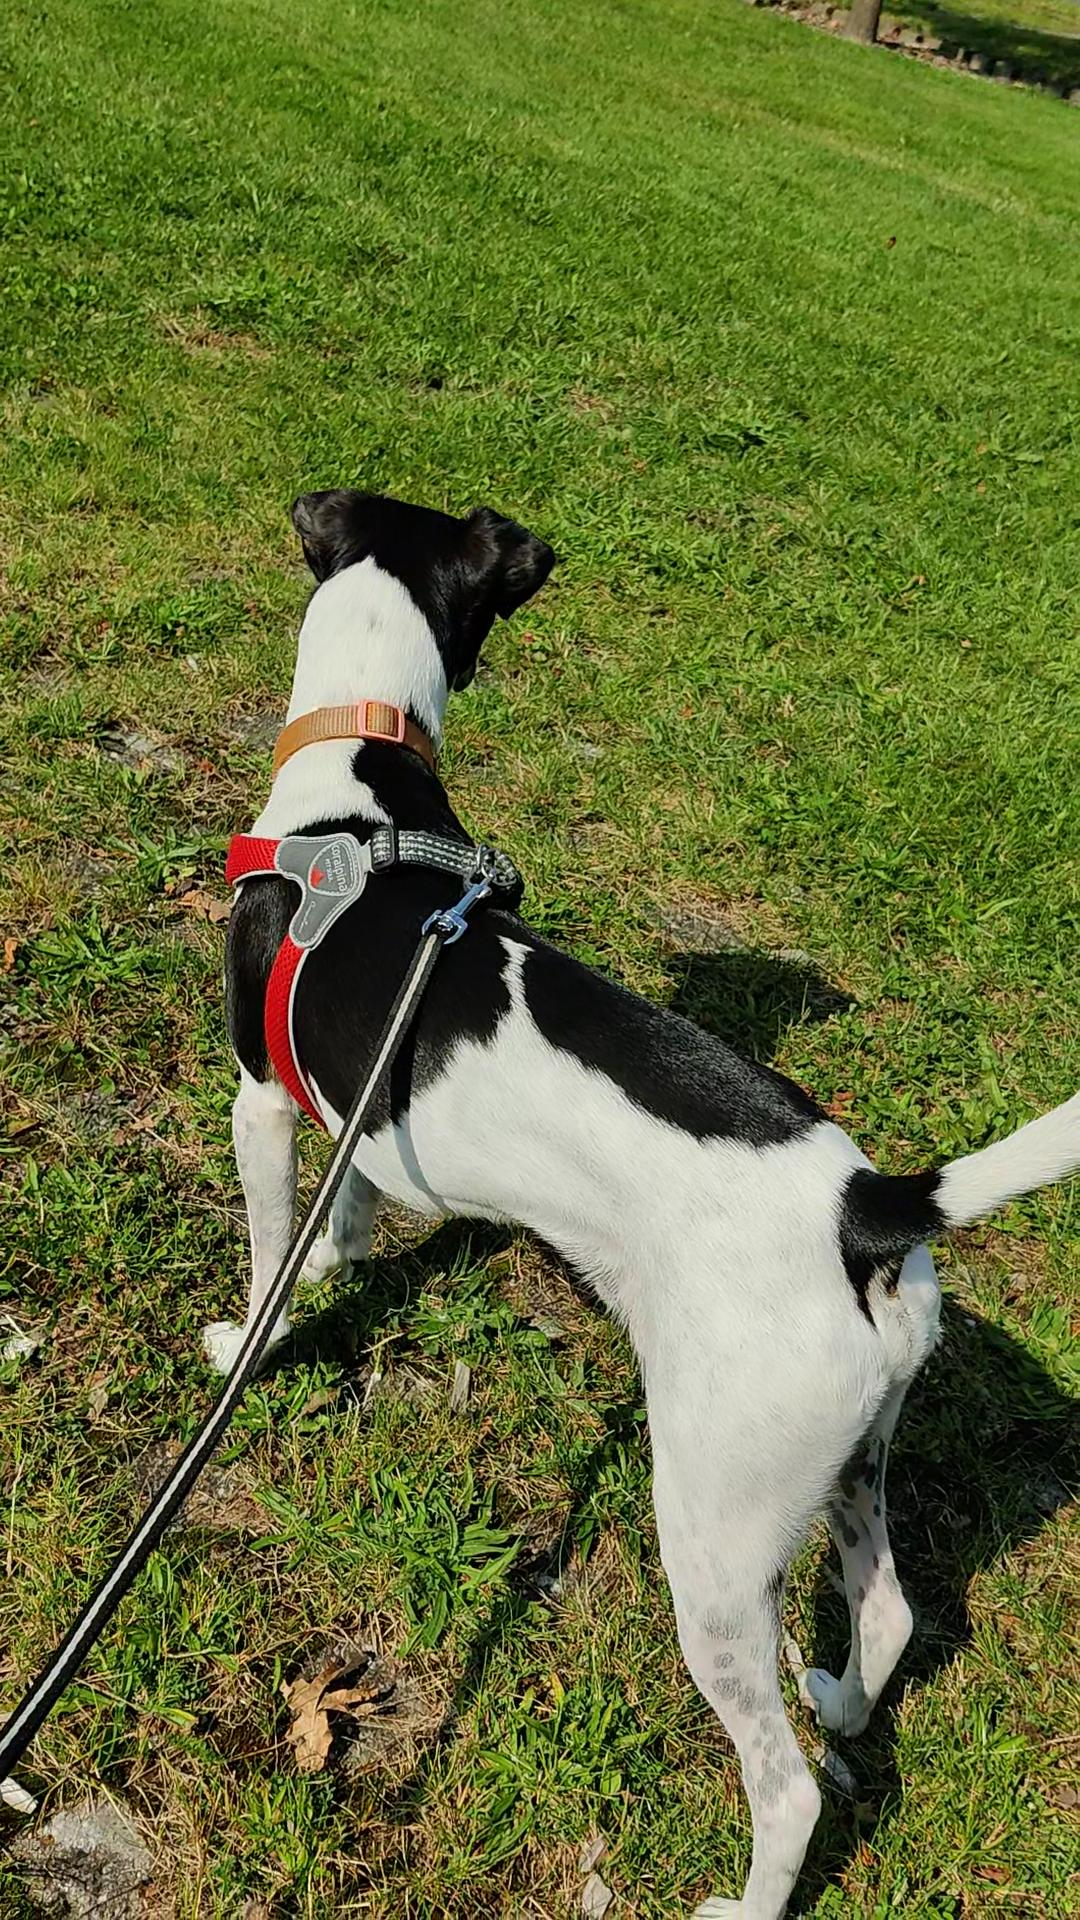Dog: (137, 444, 1079, 1919)
